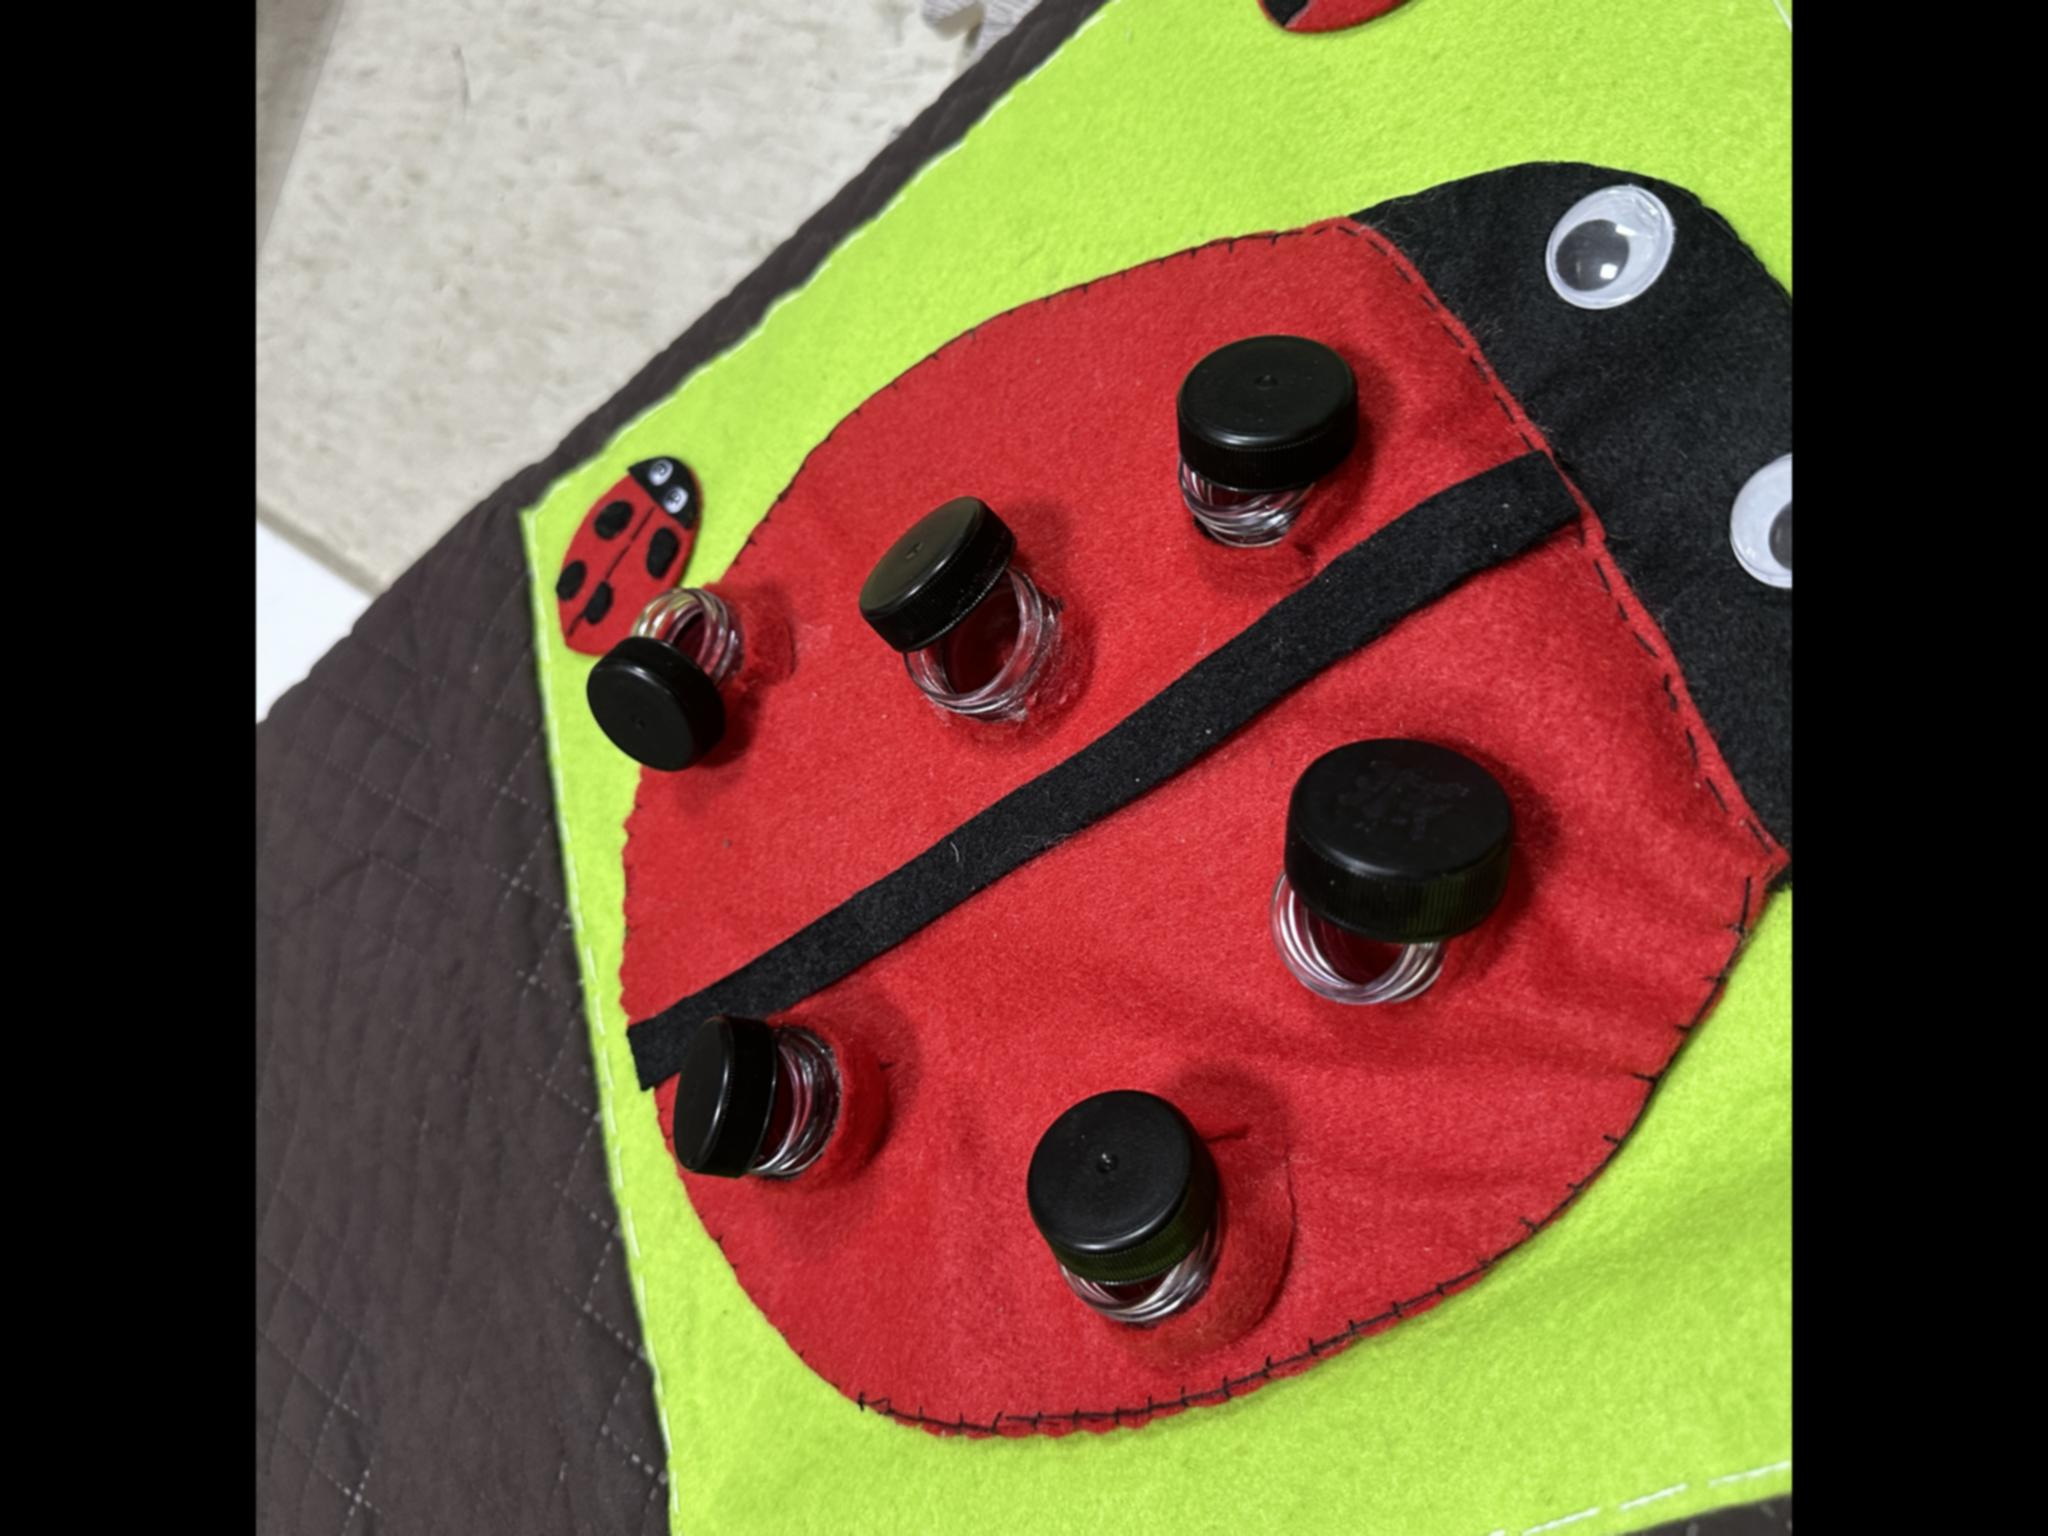cap_ng: (1245, 707, 1542, 1031), (998, 1068, 1284, 1339), (658, 963, 927, 1244), (858, 490, 1093, 778), (1153, 326, 1393, 602), (574, 571, 784, 786)
